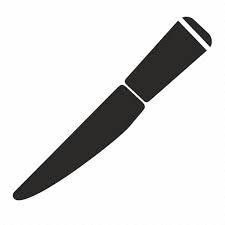Knife: (12, 15, 212, 200)
